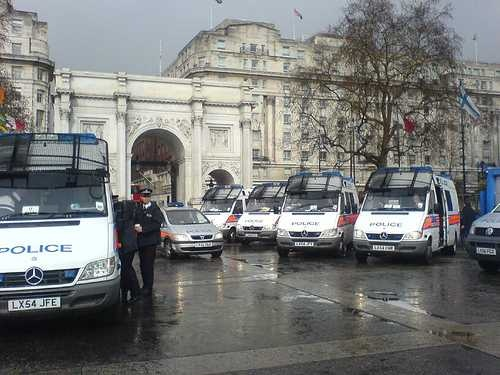Police Car: (0, 116, 167, 338)
Police Van: (340, 140, 460, 266), (284, 167, 376, 264), (232, 177, 279, 251)
